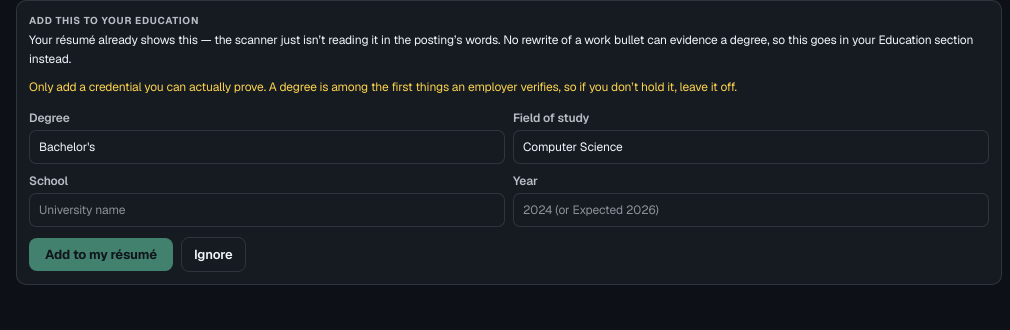
Scenario: the education editor writes a real entry › warns about a duplicate but does not block it
In the field labelled "School": (267, 210) [29,193,505,227], type "UMBC"
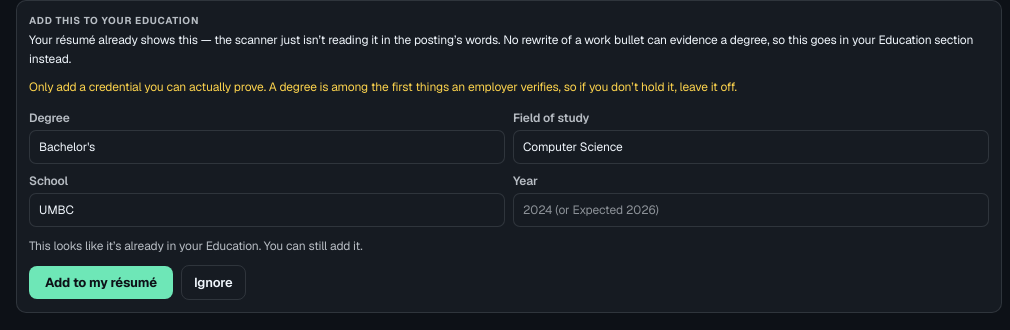
Expected: the text "already in your Education" is shown, [29,238,362,254]
Expected: the button "Add to my résumé" is enabled, [29,266,173,299]
